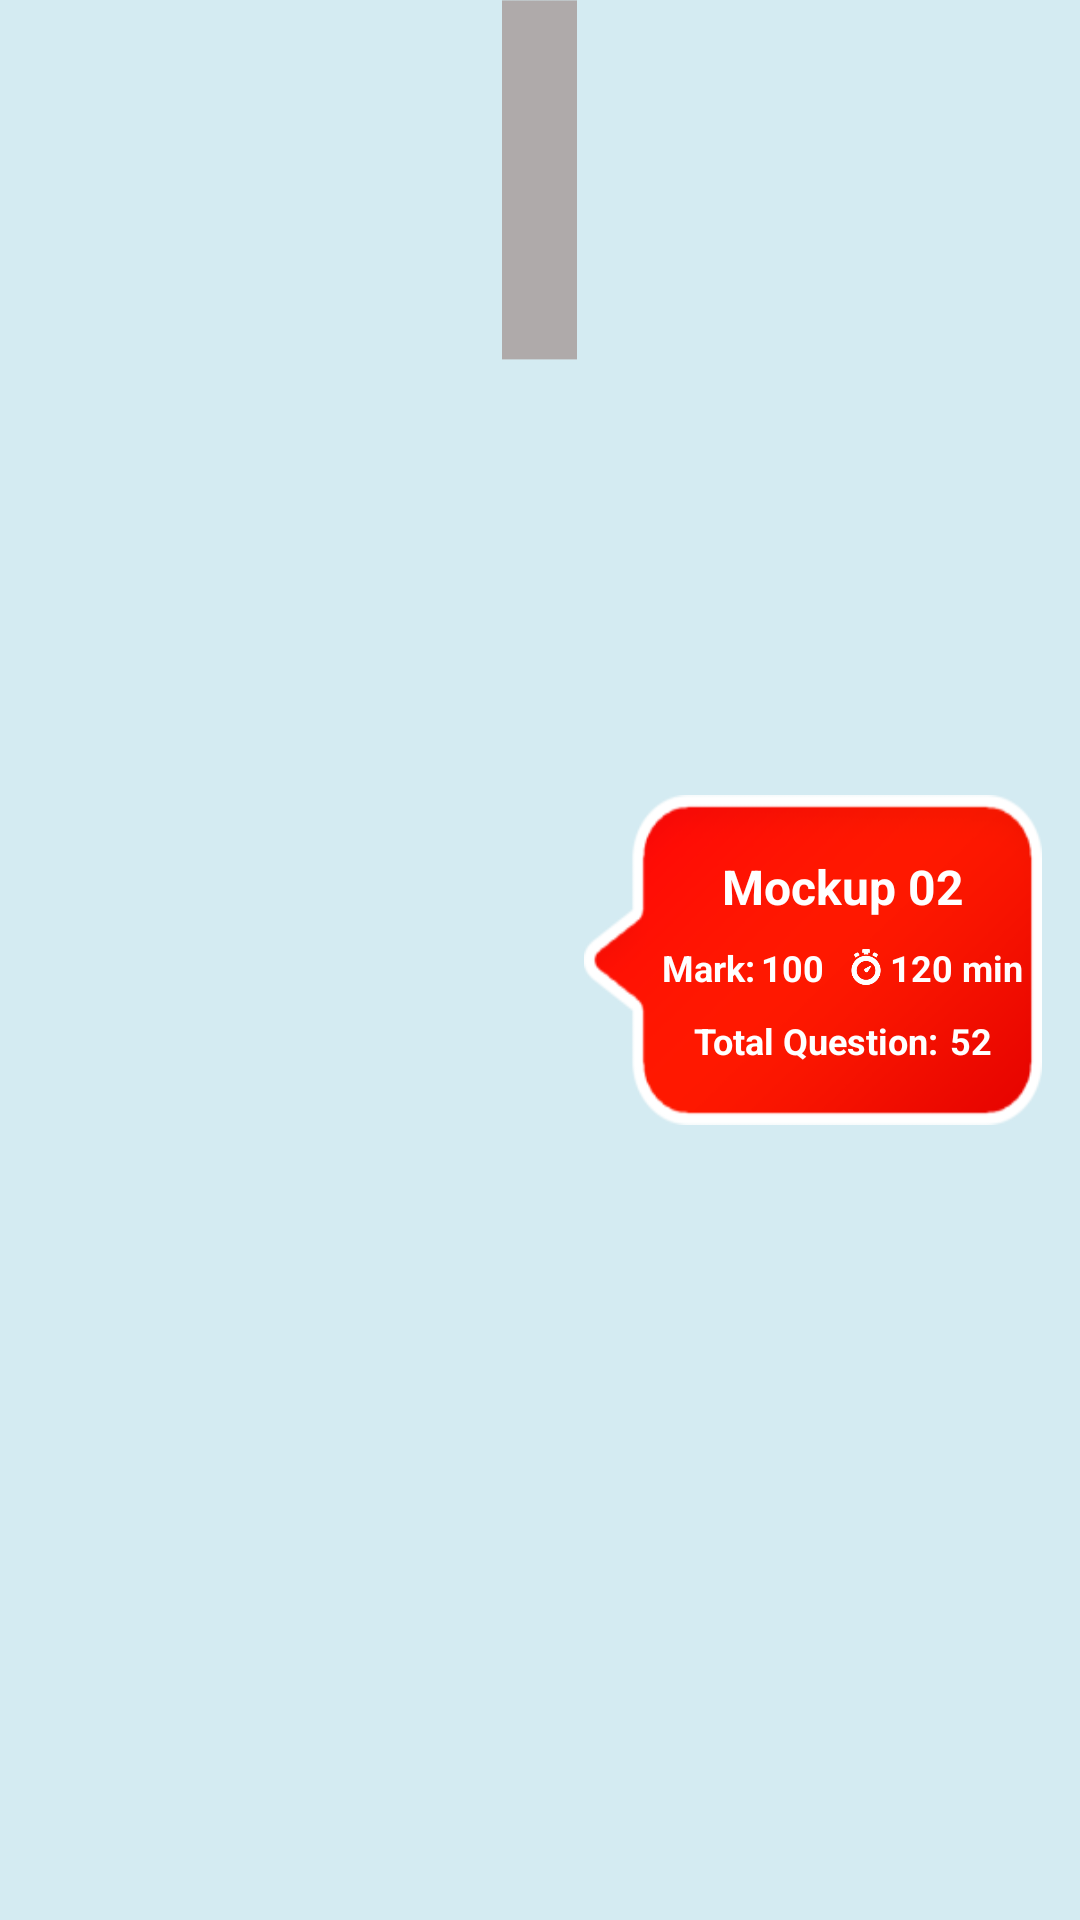

Icons on this 1080*1920 Android screen, each with its box as bbox(x1, y1, x2, y2):
timer: bbox(851, 949, 881, 985)
